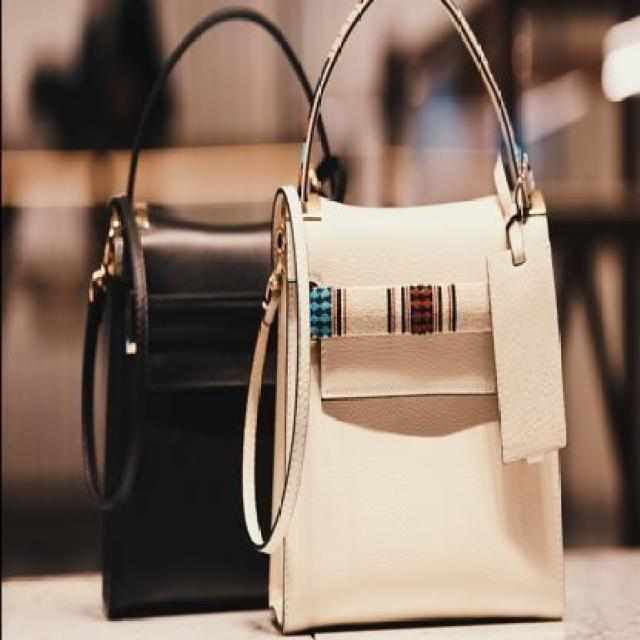not trash: (269, 0, 571, 640), (98, 11, 311, 622)
